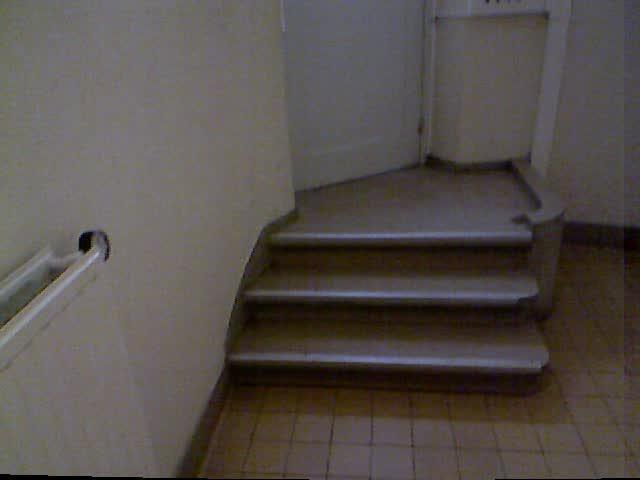Escaleras: (236, 223, 542, 406)
